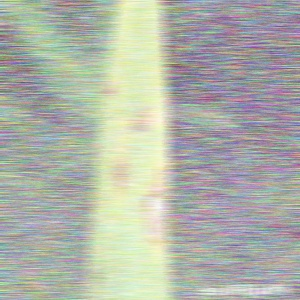Brown_Spot: (134, 179, 173, 249), (133, 99, 165, 138), (104, 149, 136, 187), (100, 78, 126, 110)
